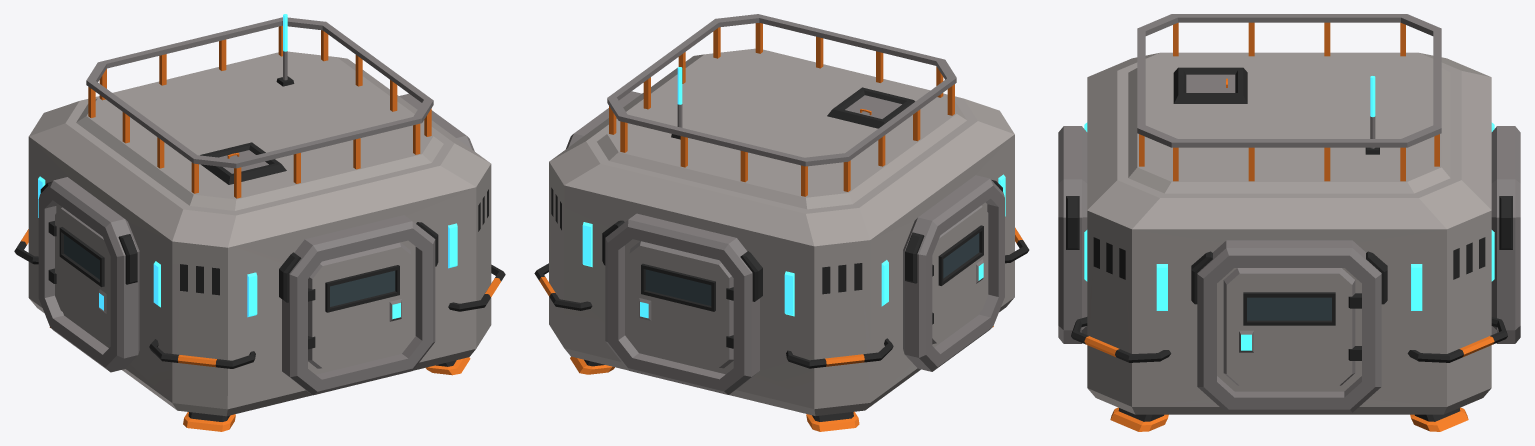
Rendered from scifi_scifi-planet-base-connector-four.fbx.
The picture shows the model from 3 angles, left to right: view 1: azimuth 30°, elevation 25°; view 2: azimuth 150°, elevation 25°; view 3: azimuth 270°, elevation 25°; orthographic projection. The views are drawn at different scales.
Visible parts, largest first — view 1: scifi_scifi_planet_base_connector_four; view 2: scifi_scifi_planet_base_connector_four; view 3: scifi_scifi_planet_base_connector_four.
Part boxes in pixels (x1,y1,x2,y2): scifi_scifi_planet_base_connector_four: (14, 14, 505, 431); scifi_scifi_planet_base_connector_four: (534, 14, 1029, 431); scifi_scifi_planet_base_connector_four: (1058, 14, 1520, 431).
Size of the model in its own units: 200 by 149 by 200.
